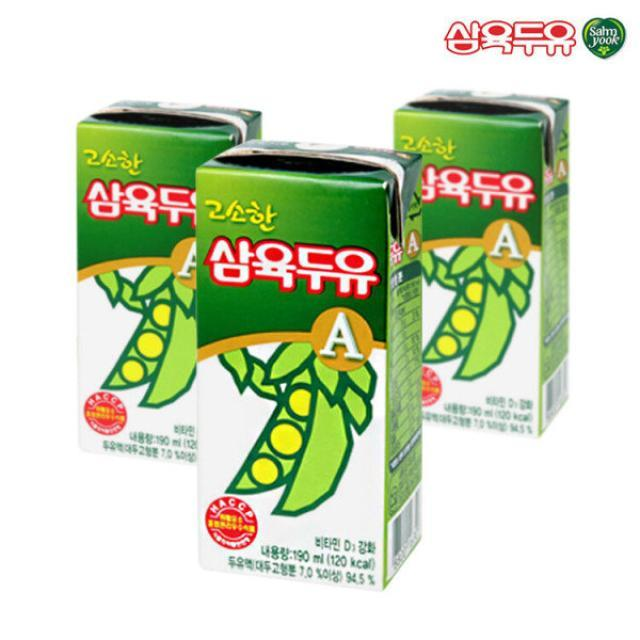Tetra: (199, 131, 426, 602), (54, 74, 274, 486), (388, 79, 586, 448)
